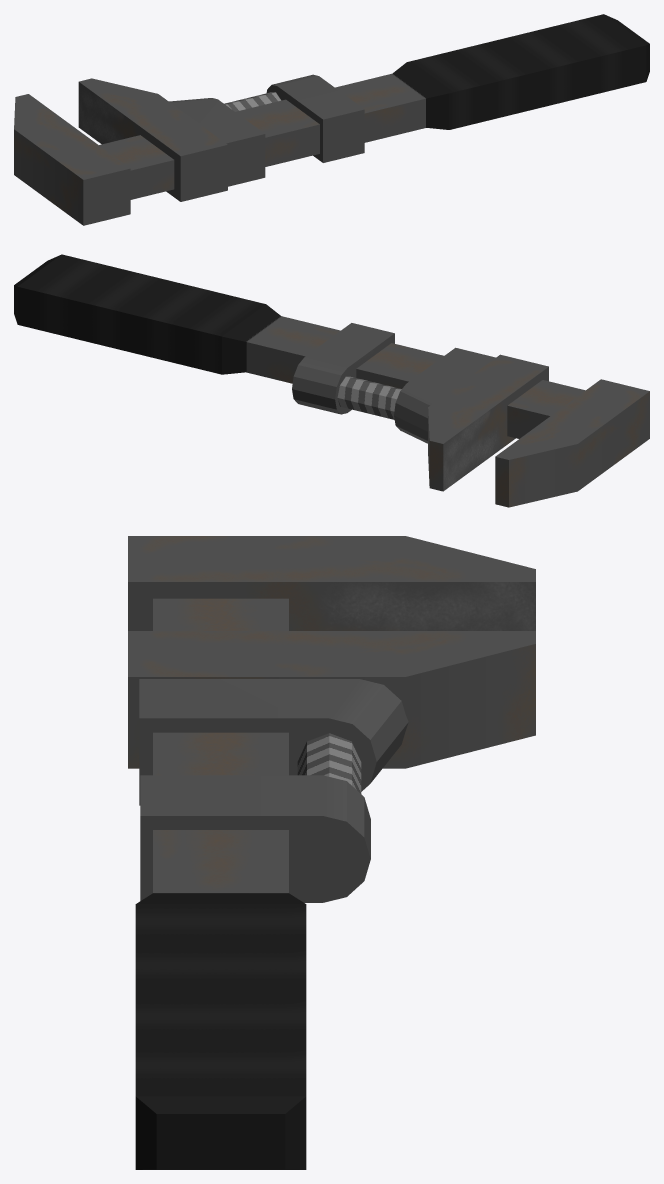
Rendered from alpha_wrench.fbx.
3 renders of one model, top to bottom at view 1: azimuth 30°, elevation 25°; view 2: azimuth 150°, elevation 25°; view 3: azimuth 270°, elevation 25°, orthographic. The views are drawn at different scales.
Visible parts, largest first — view 1: wrench; view 2: wrench; view 3: wrench.
Part boxes in pixels (left/top/right/bottom): wrench: left=14, top=14, right=649, bottom=225; wrench: left=14, top=254, right=649, bottom=507; wrench: left=128, top=536, right=535, bottom=1169.
Bounding box in the file's own units: 187 × 14.28 × 57.59.
